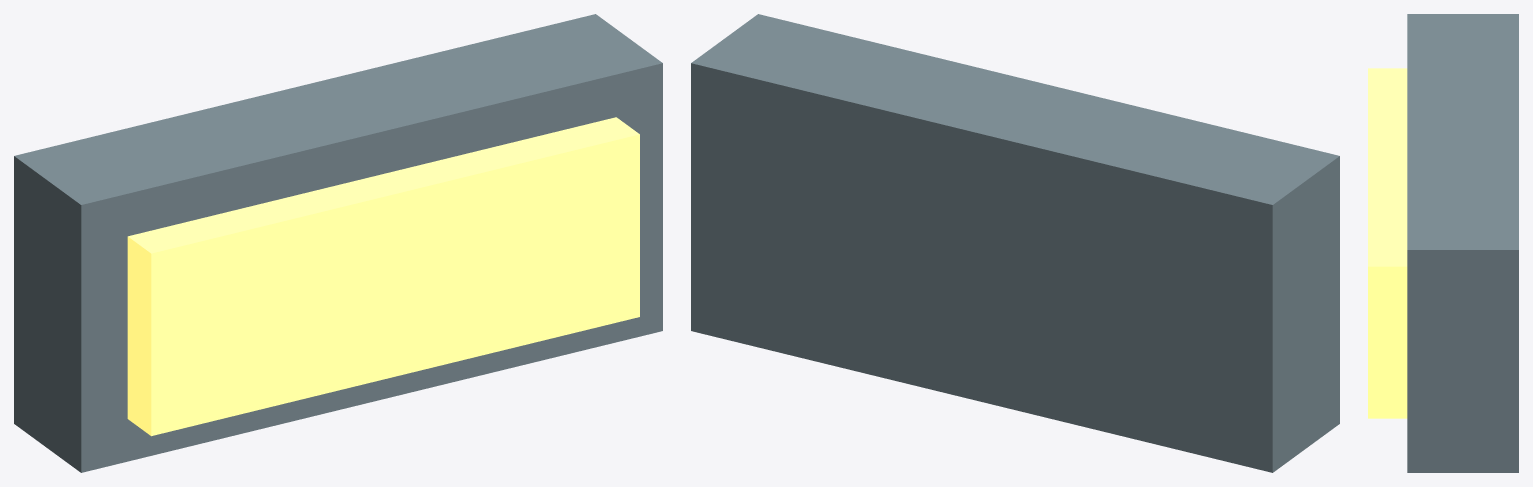
File: Interior_Wall_Light.glb
3 views of the same model, side by side, from view 1: azimuth 30°, elevation 25°; view 2: azimuth 150°, elevation 25°; view 3: azimuth 270°, elevation 25° (orthographic). The views are drawn at different scales.
Parts seen in each view (by area): view 1: Interior_Wall_Light; view 2: Interior_Wall_Light; view 3: Interior_Wall_Light.
Part boxes in pixels (x1,y1,x2,y2): Interior_Wall_Light: [14, 14, 662, 472]; Interior_Wall_Light: [691, 14, 1339, 472]; Interior_Wall_Light: [1368, 14, 1518, 472].
Bounding box in the file's own units: 0.5 × 0.22 × 0.135.
